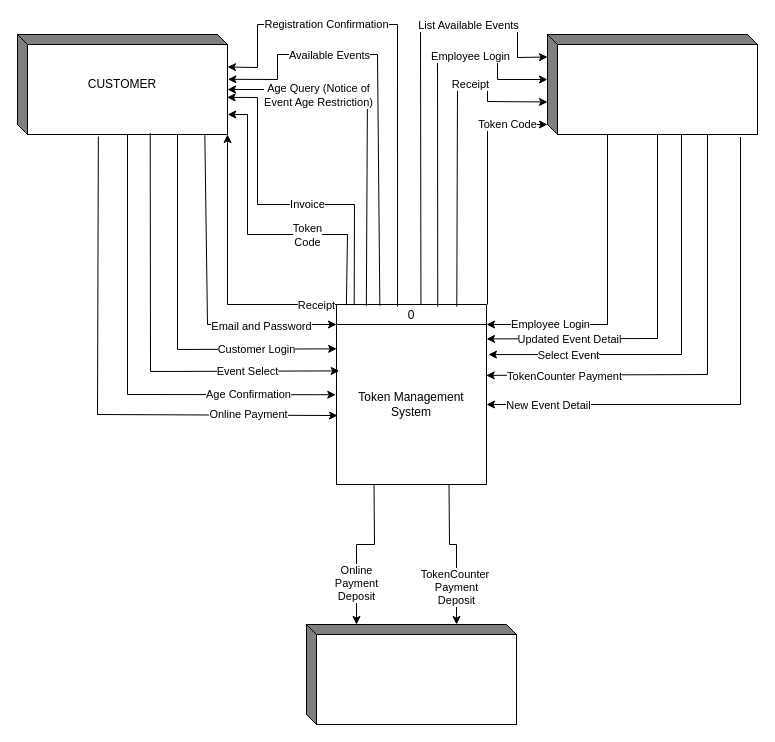
The diagram is 775 pixels wide and 742 high, and some of its shapes have lost their labels. Each missing label, with the box of its shape:
BANK: (306, 624, 516, 724)
EMPLOYEE: (546, 34, 758, 134)
